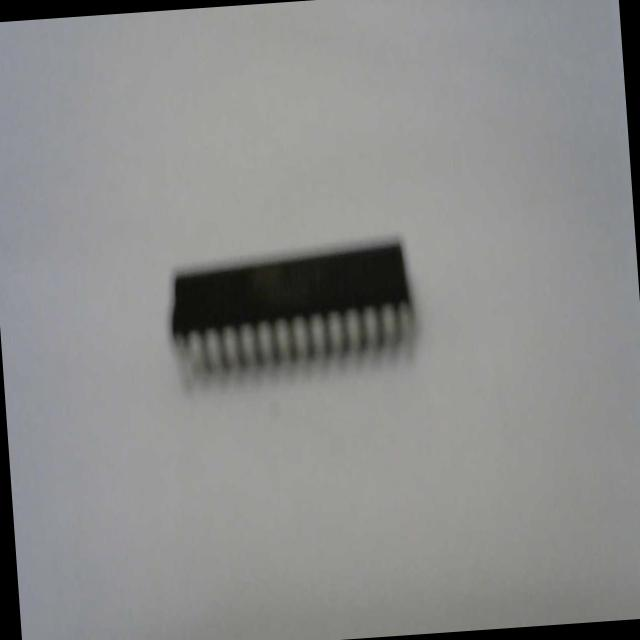atmega: (162, 232, 421, 391)
